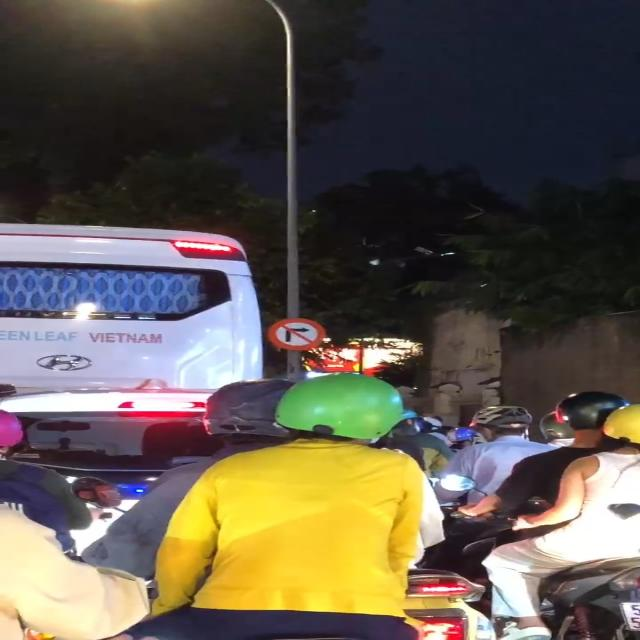Bien bao cam re phai: (263, 316, 325, 352)
